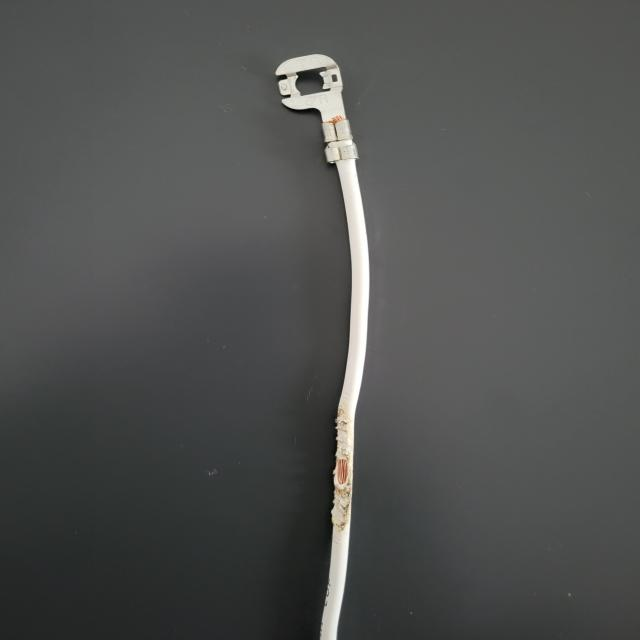defect: (288, 380, 415, 546)
